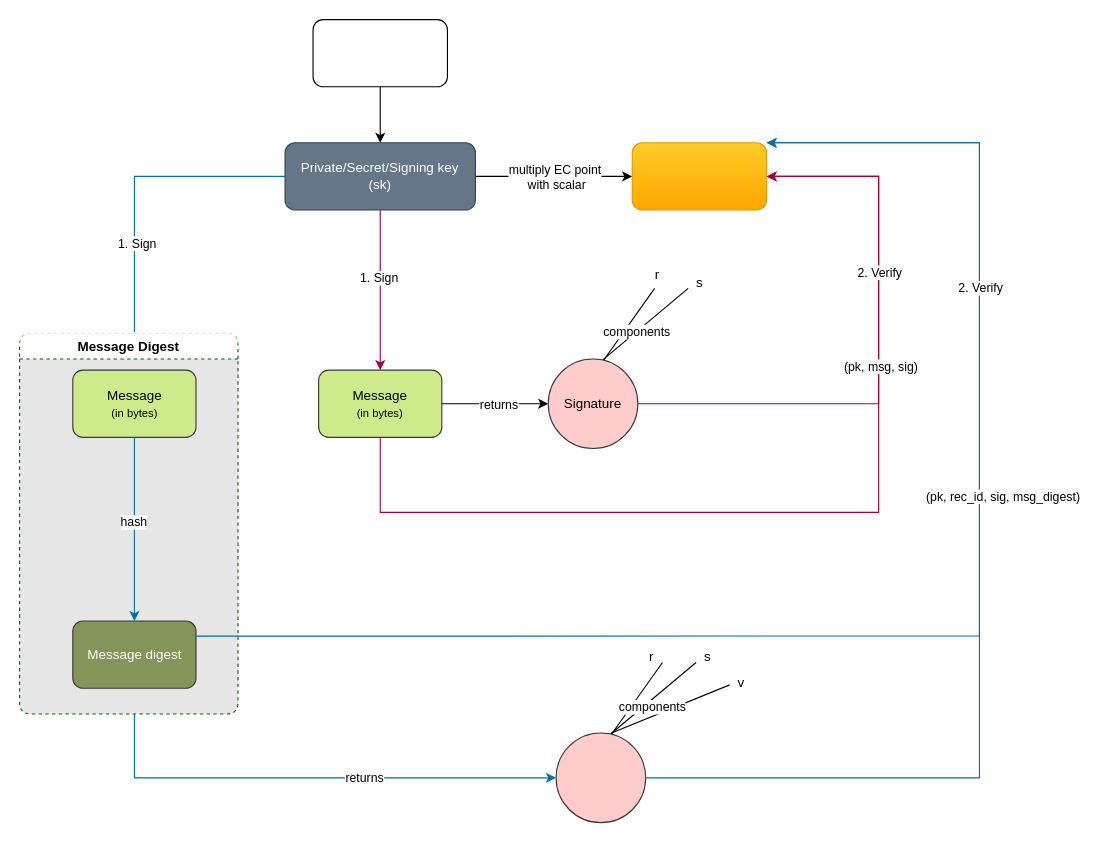
Image size: 1099x842. Some labels were removed from this diagram. The shapes that lost their labels are listed below. From the top down, each one's centre as x and y in pixels, then its label:
At pixel 379 52: "Random number".
At pixel 699 176: "Public/Verifying key (pk)".
At pixel 600 777: "Signature, Recovery Id".
